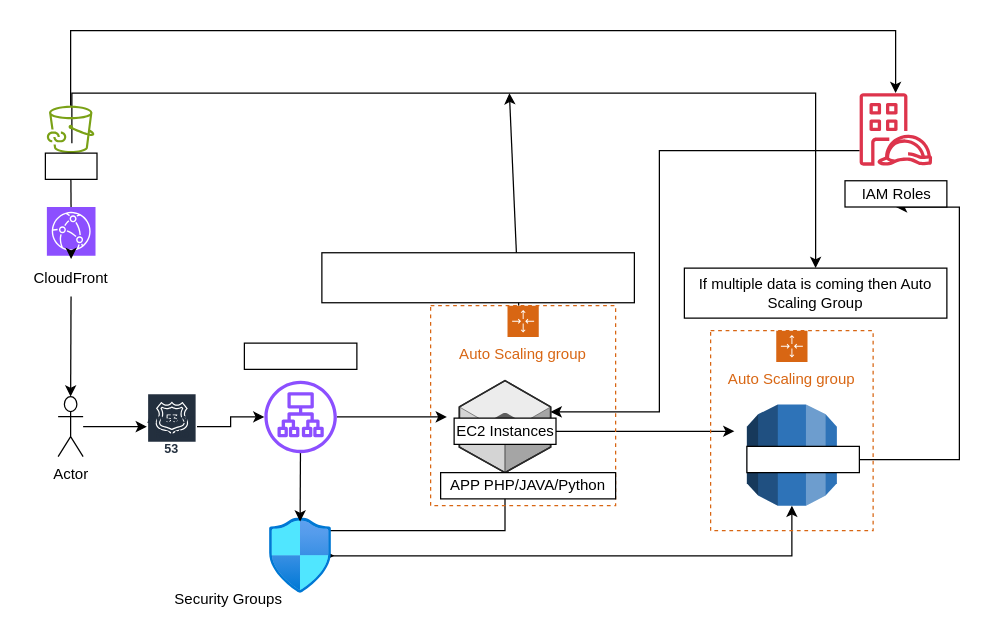
Some shapes in this 993 by 640 pixel diagram are drawn without their labels. The centre of each missing label's shape, as x and y in pixels:
If multiple user is coming then Auto Scaling Group: the point at 477,277
Load Balancer: the point at 300,355
RDS Database: the point at 802,459
S3: the point at 70,165
